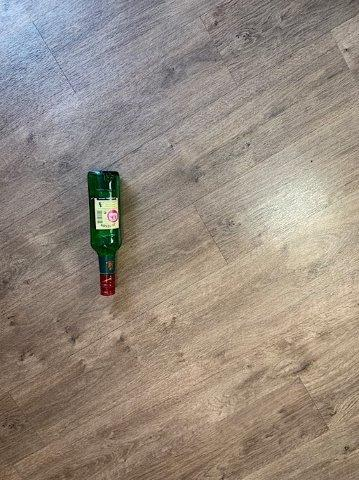botolkaca: (88, 171, 122, 295)
